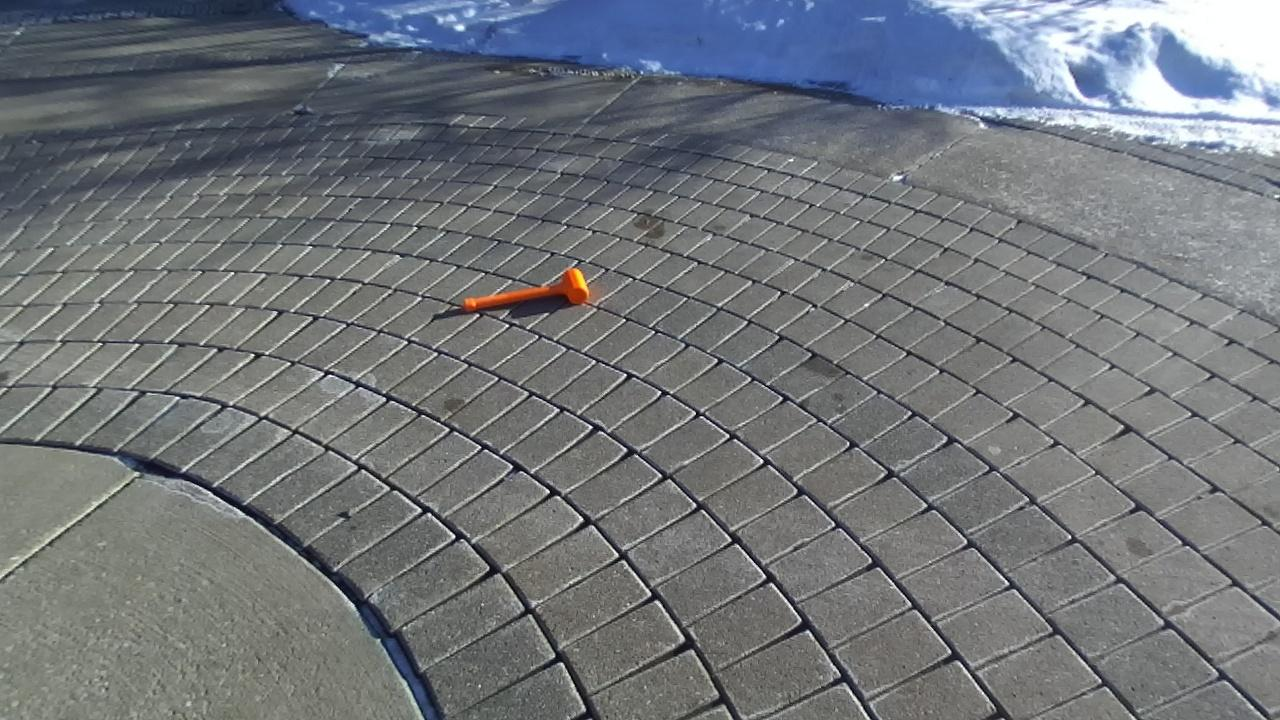mallet: (463, 268, 589, 311)
